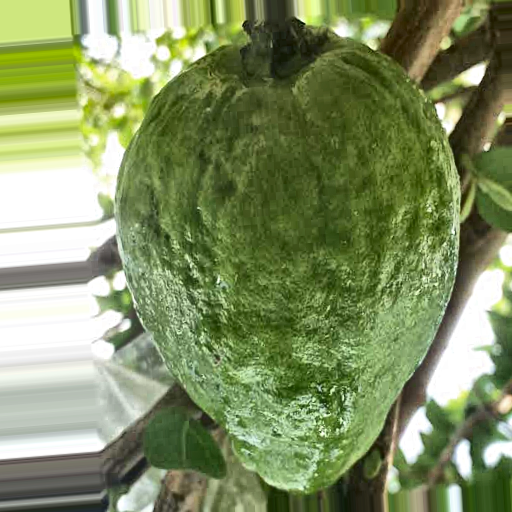guava: (99, 68, 428, 470)
